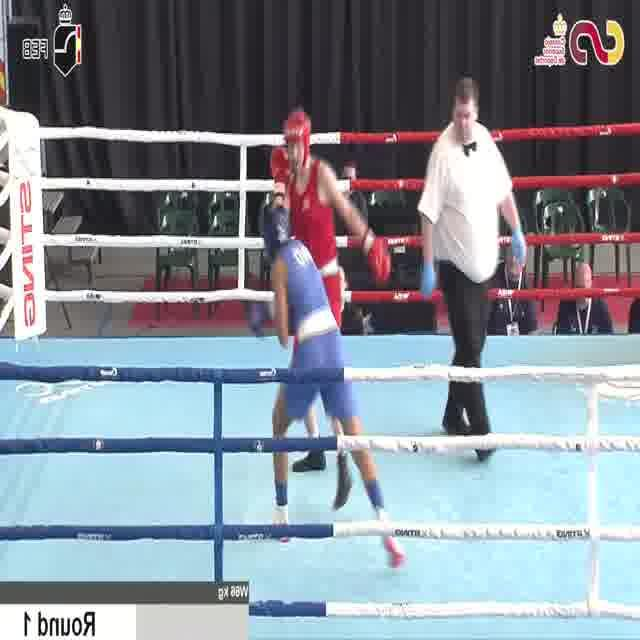blue-player: (249, 200, 406, 572)
red-player: (269, 106, 394, 511)
referee: (414, 73, 530, 463)
